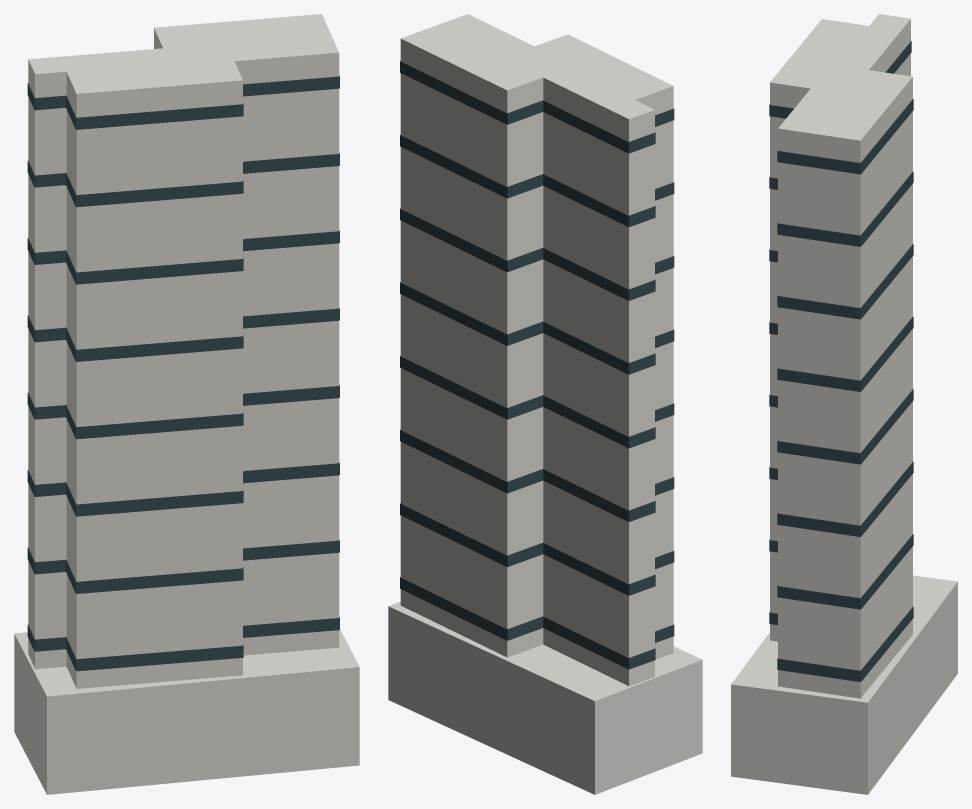
Rendered from bgc_building_0005_lod1.glb.
3 views of the same model, side by side, from view 1: azimuth 30°, elevation 25°; view 2: azimuth 150°, elevation 25°; view 3: azimuth 270°, elevation 25° (orthographic). The views are drawn at different scales.
Parts seen in each view (by area): view 1: BGC_RUNTIME_002_M10_0005_Tower, BGC_RUNTIME_001_M10_0005_Podium, BGC_RUNTIME_M10_0005_FACADE_BANDS; view 2: BGC_RUNTIME_002_M10_0005_Tower, BGC_RUNTIME_001_M10_0005_Podium, BGC_RUNTIME_M10_0005_FACADE_BANDS; view 3: BGC_RUNTIME_002_M10_0005_Tower, BGC_RUNTIME_001_M10_0005_Podium, BGC_RUNTIME_M10_0005_FACADE_BANDS.
Boxes of the visible parts, x1,y1,x2,y2 form: BGC_RUNTIME_002_M10_0005_Tower: (28, 14, 339, 688); BGC_RUNTIME_001_M10_0005_Podium: (14, 629, 359, 794); BGC_RUNTIME_M10_0005_FACADE_BANDS: (27, 75, 339, 671); BGC_RUNTIME_002_M10_0005_Tower: (400, 14, 673, 685); BGC_RUNTIME_001_M10_0005_Podium: (388, 601, 702, 794); BGC_RUNTIME_M10_0005_FACADE_BANDS: (400, 61, 674, 669); BGC_RUNTIME_002_M10_0005_Tower: (770, 14, 912, 698); BGC_RUNTIME_001_M10_0005_Podium: (731, 575, 957, 794); BGC_RUNTIME_M10_0005_FACADE_BANDS: (769, 41, 913, 681).
Size of the model in its own units: 79.16 by 172 by 54.36.
